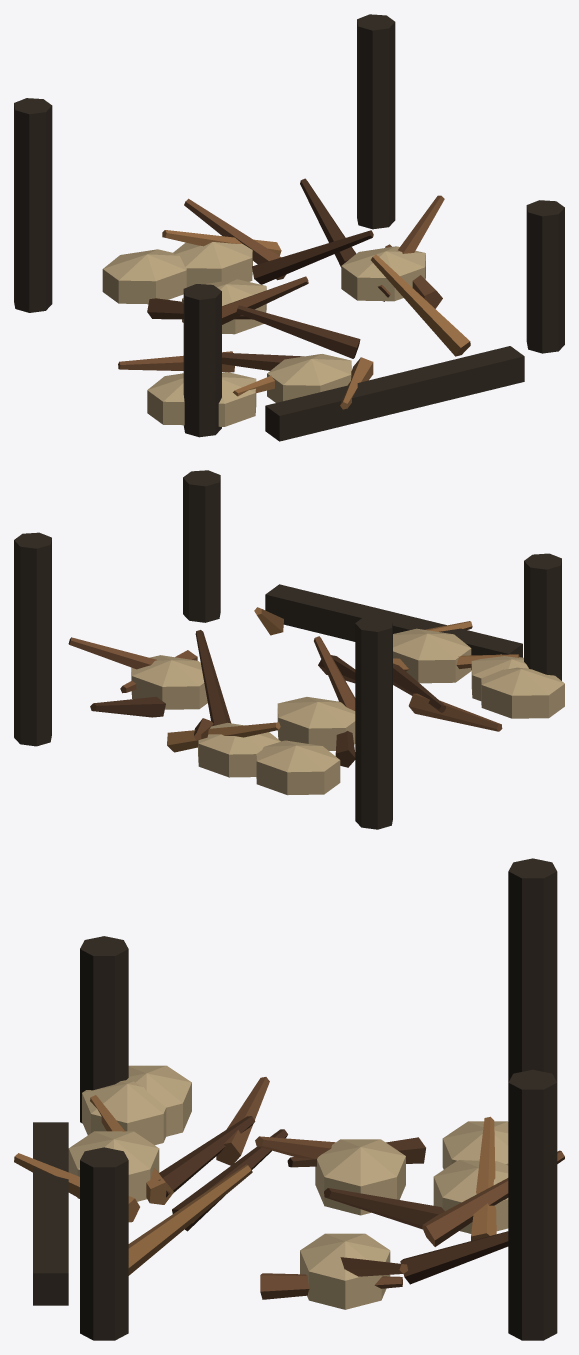
Rendered from ruined-cottage.glb.
3 views of the same model, one above another, from view 1: azimuth 30°, elevation 25°; view 2: azimuth 150°, elevation 25°; view 3: azimuth 270°, elevation 25° (orthographic). The views are drawn at different scales.
Visible parts, largest first — view 1: ruined-cottage; view 2: ruined-cottage; view 3: ruined-cottage.
Boxes of the visible parts, <box> form: ruined-cottage: <box>14,14,564,441</box>; ruined-cottage: <box>14,470,564,829</box>; ruined-cottage: <box>14,858,564,1340</box>.
Bounding box in the file's own units: 3.18 × 1.6 × 3.09.
